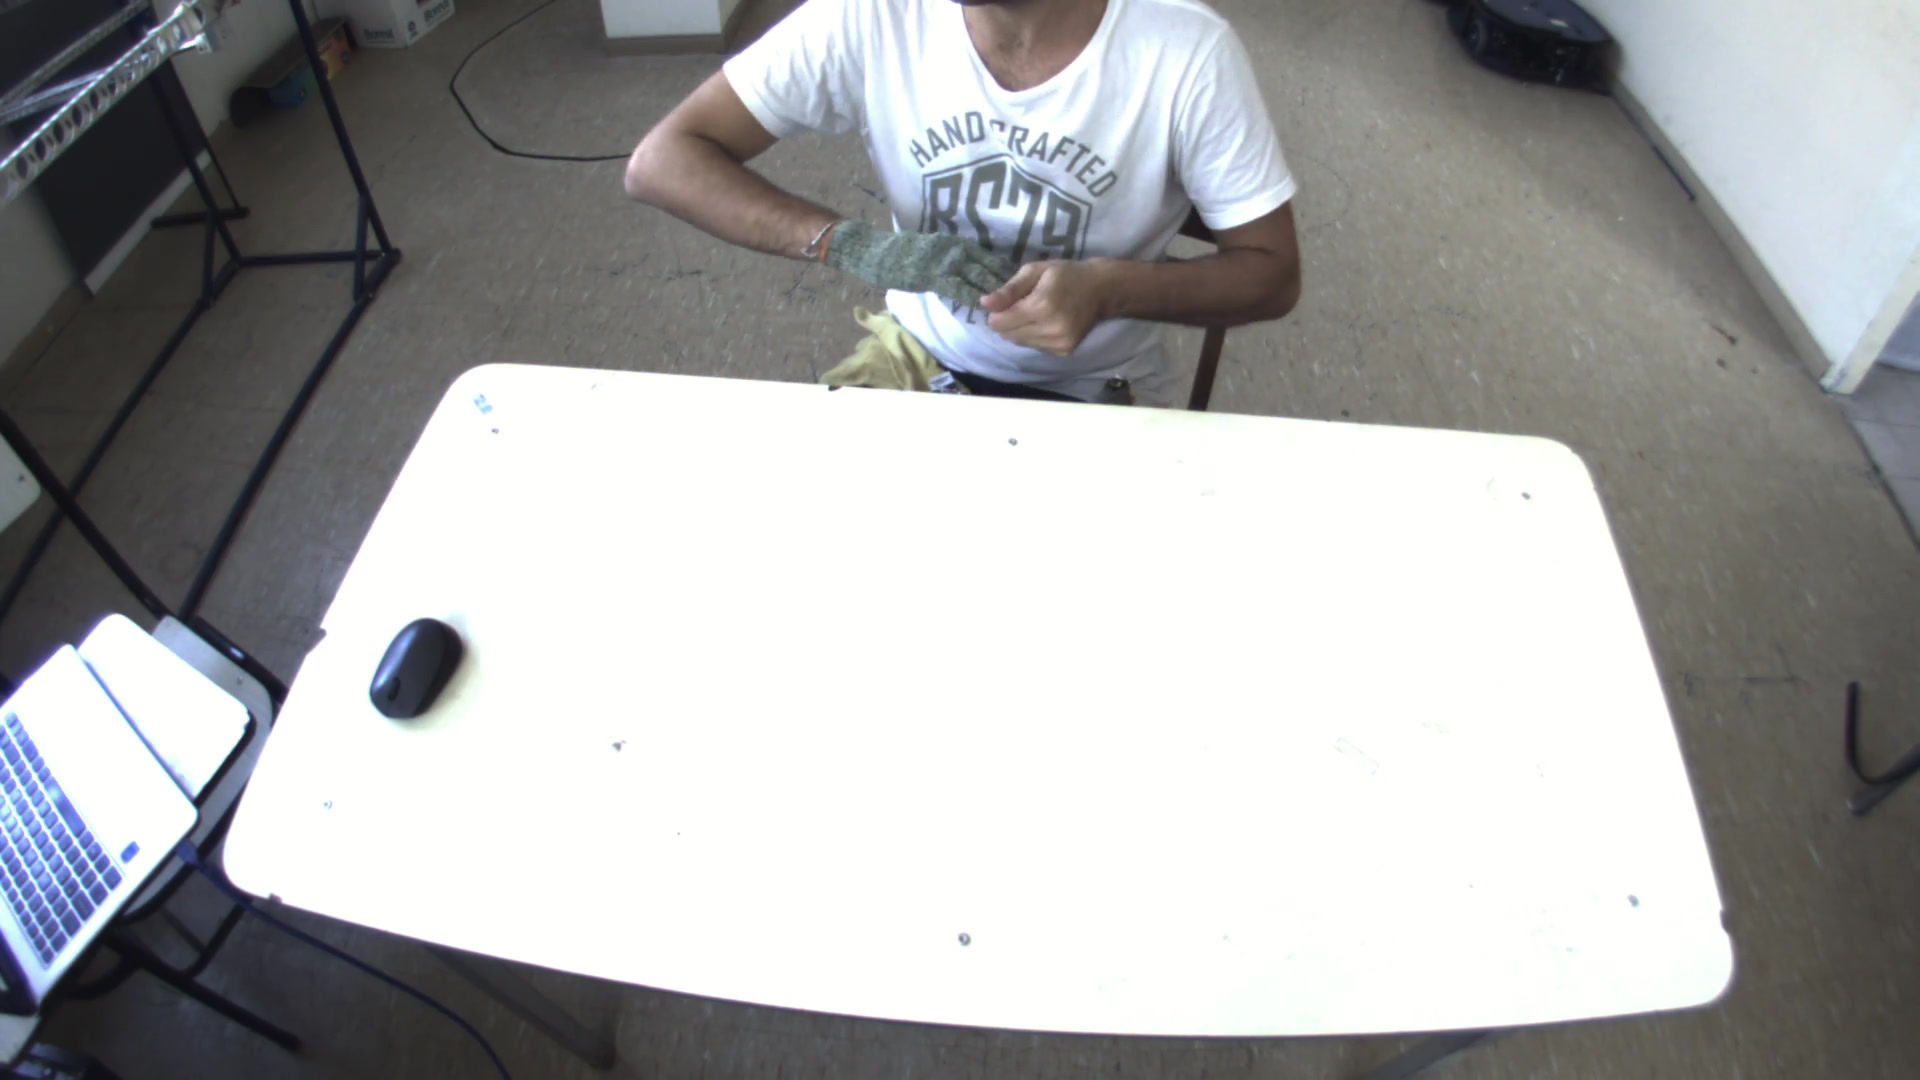hand: (837, 212, 1015, 311), (971, 244, 1117, 345)
